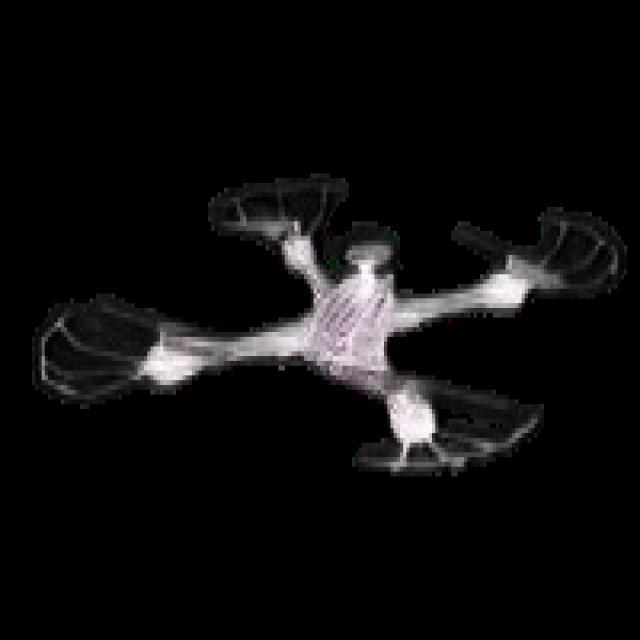drone: (29, 159, 631, 503)
